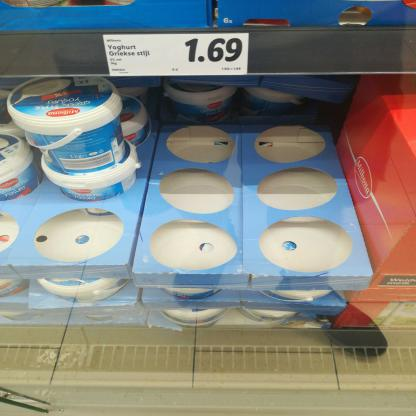prtg: (104, 34, 250, 77)
